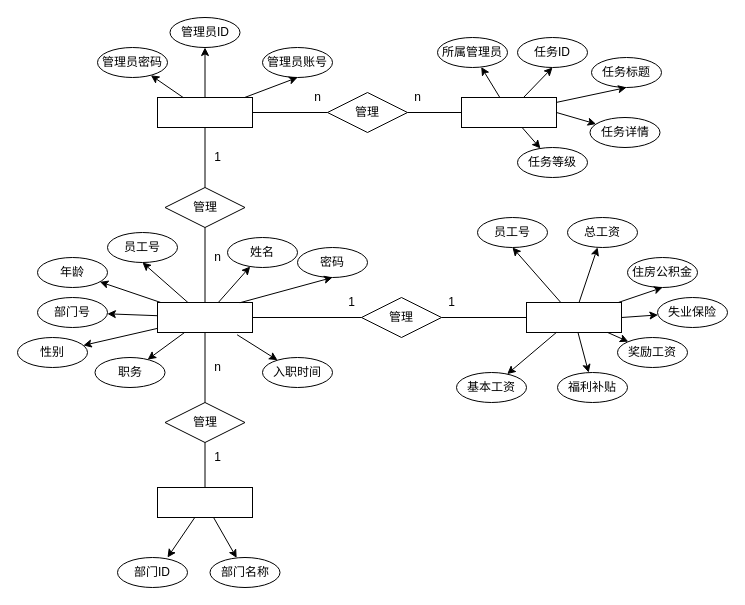
Some shapes in this 745 by 605 pixel diagram are drawn without their labels. Each missing label, with the centre of its shape:
"任务" belongs at (508,112).
"员工" belongs at (204,317).
"工资" belongs at (574,317).
"管理员" belongs at (204,112).
"部门" belongs at (204,502).
